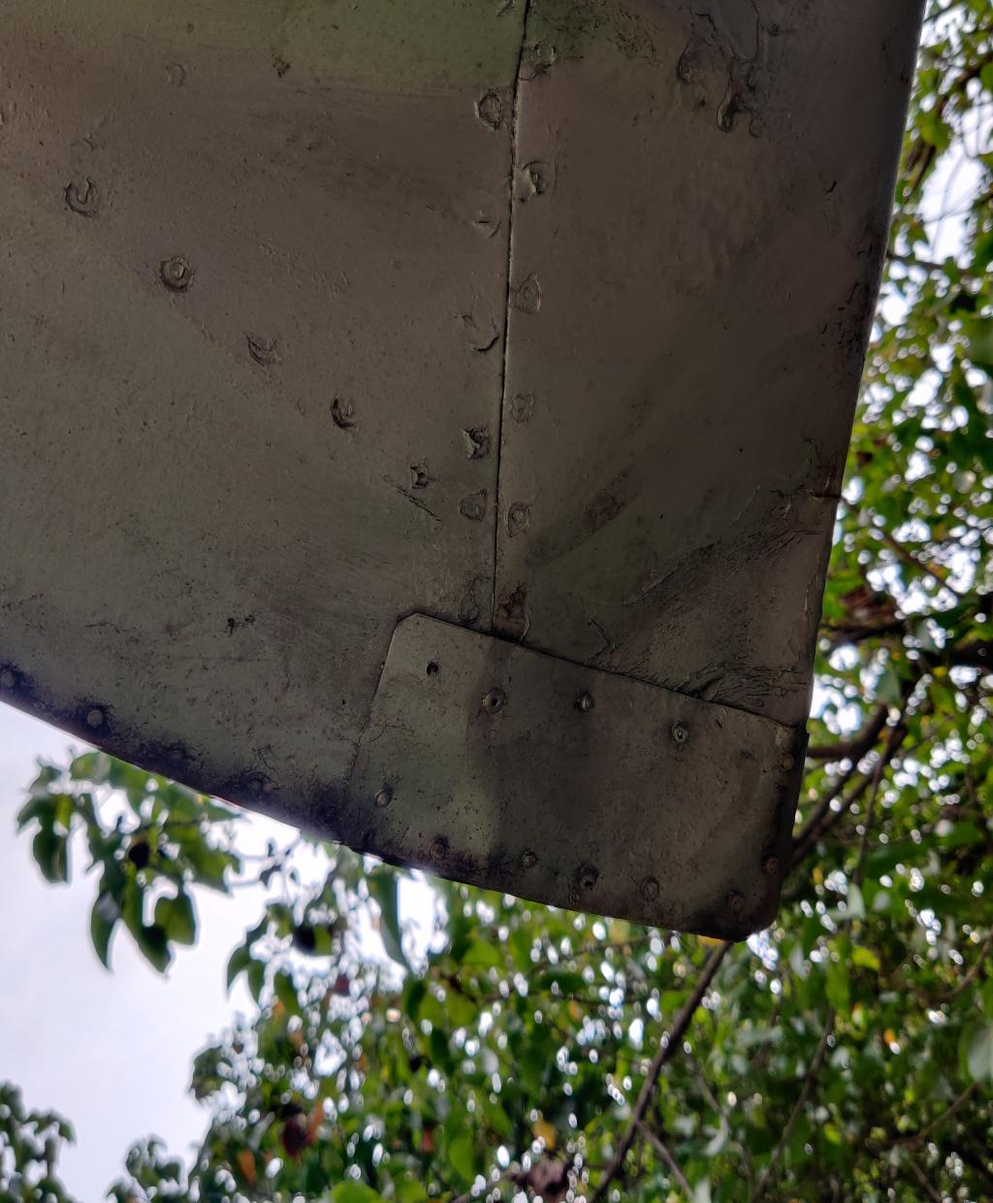dent: (437, 477, 804, 983)
